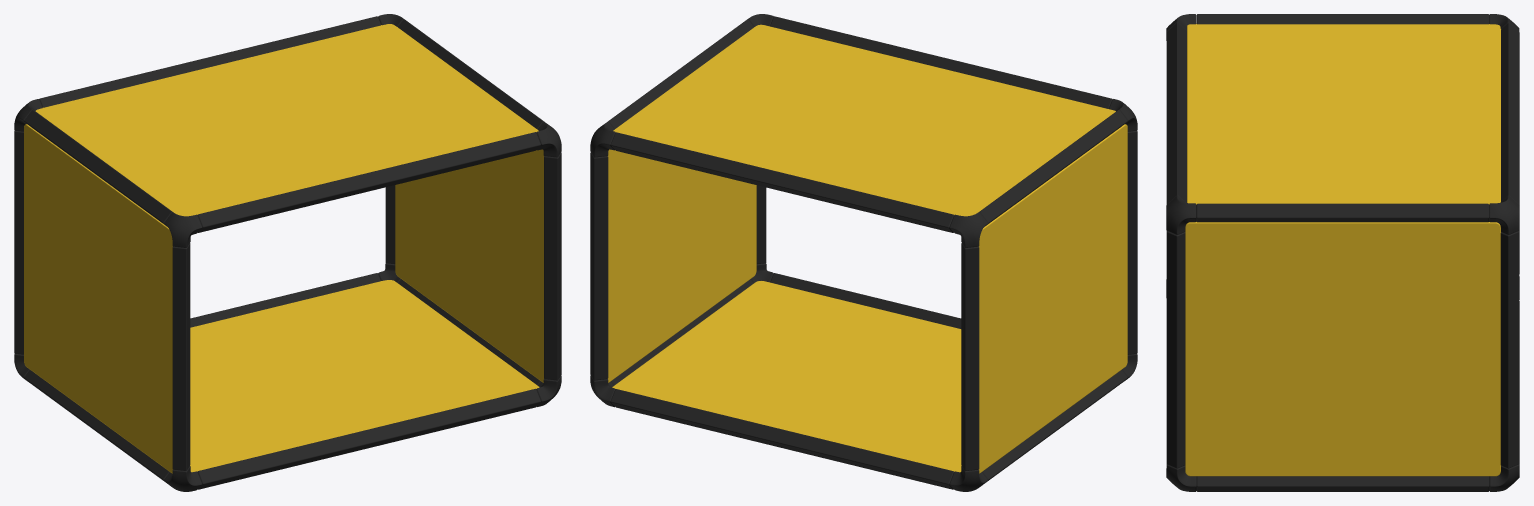
The picture shows the model from 3 angles, left to right: view 1: azimuth 30°, elevation 25°; view 2: azimuth 150°, elevation 25°; view 3: azimuth 270°, elevation 25°; orthographic projection. The views are drawn at different scales.
Visible parts, largest first — view 1: 523x374x329; view 2: 523x374x329; view 3: 523x374x329.
Boxes of the visible parts, bbox=[...] form: 523x374x329: bbox=[14, 14, 561, 491]; 523x374x329: bbox=[590, 14, 1137, 491]; 523x374x329: bbox=[1166, 14, 1519, 491].
Bounding box in the file's own units: 0.6007 × 0.4066 × 0.4513.
